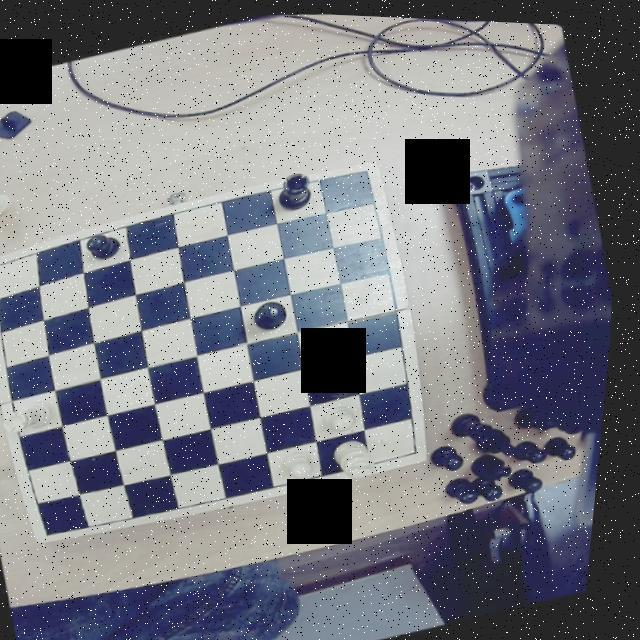chess-table-corners: (352, 157, 384, 185), (44, 520, 76, 544), (409, 432, 438, 458), (0, 257, 15, 281)
